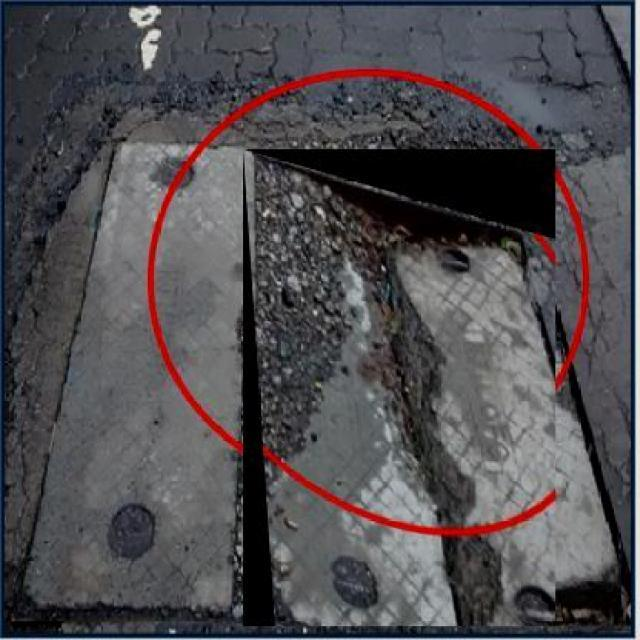Manhole: (242, 149, 556, 626)
